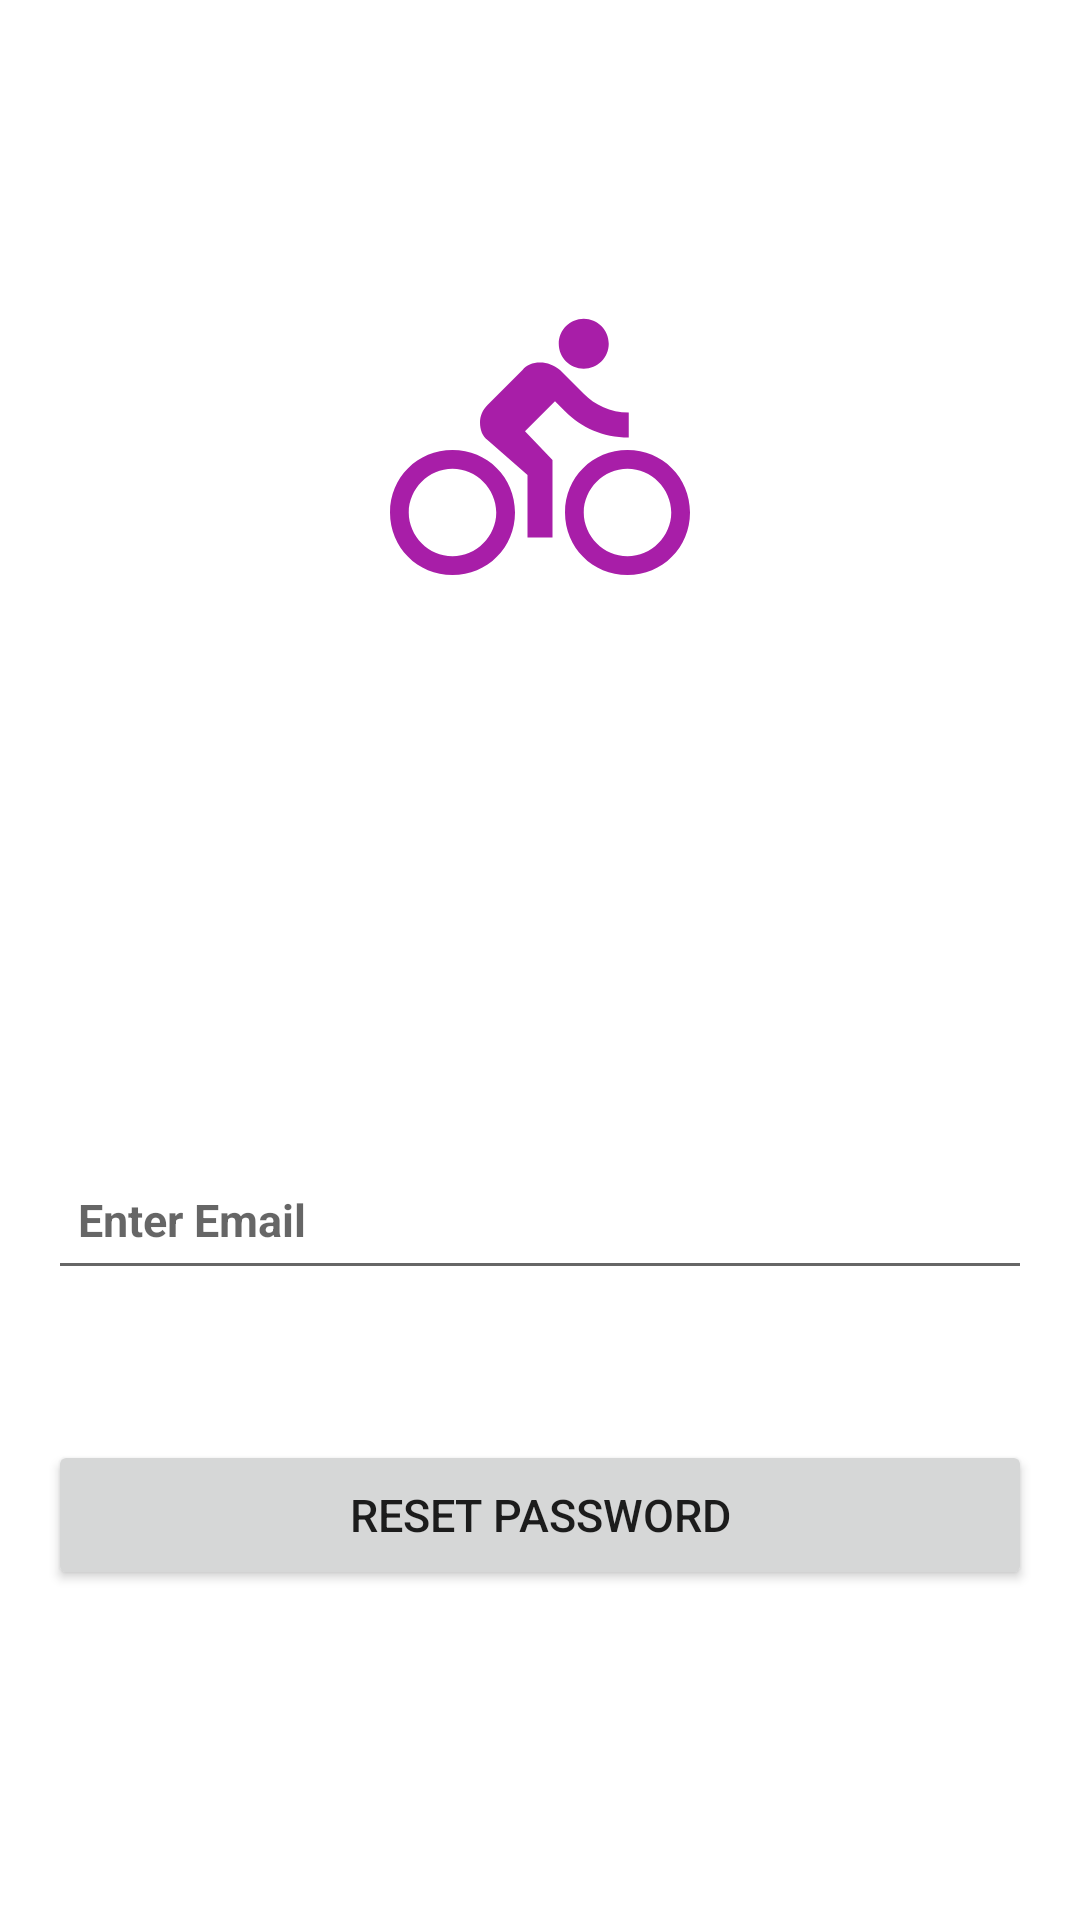

Where icons sit on this 1080x1920 app screen, as {"x1": x1, "y1": y1, "x2": x2, "y2": y2}:
directions bike: {"x1": 390, "y1": 318, "x2": 690, "y2": 575}
